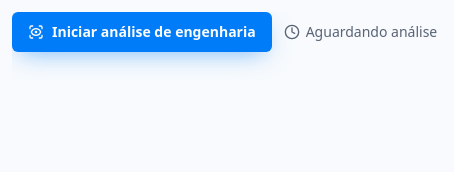
Scenario: Início de análise › bloqueia solicitações duplicadas e não modifica o status ao encontrar integração pendente
Later steps or results of the test are not shown.
Step 1. Click the button → (142, 32), box [12,12,272,52]
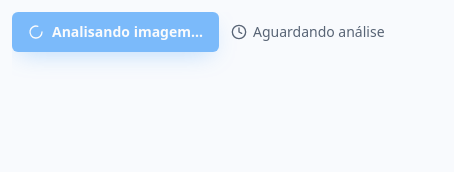
Step 2. Click the button → (116, 32), box [12,12,219,52]
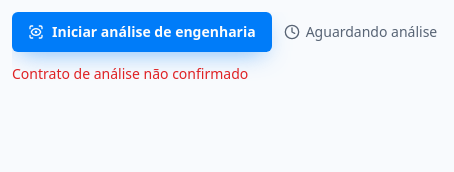
Result: the button is enabled at [12,12,272,52]
Result: the message "Contrato de análise não confirmado" is shown at [12,64,248,83]
